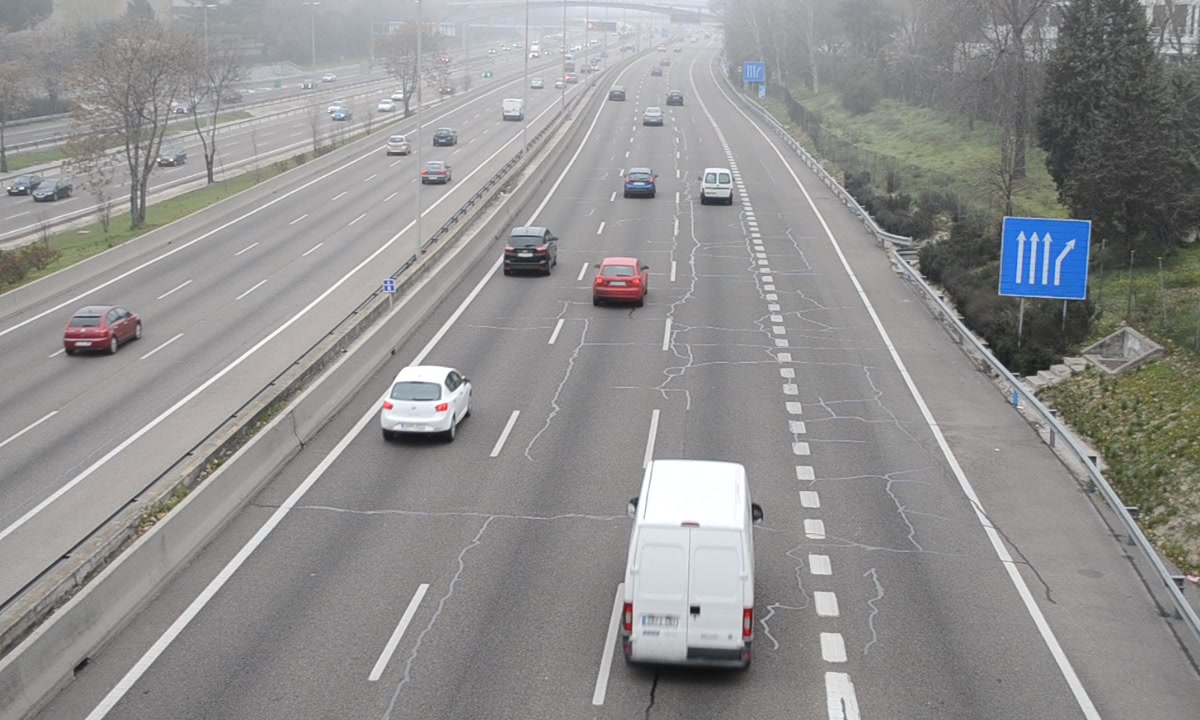car: (382, 367, 470, 434), (593, 256, 645, 304), (503, 227, 556, 274), (623, 167, 656, 198)
van: (623, 460, 756, 668), (700, 167, 736, 206)
